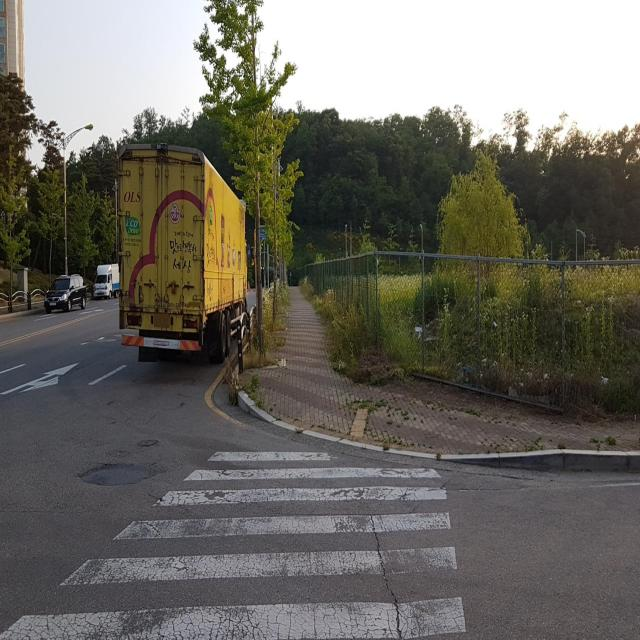횡단보도: (0, 447, 469, 640)
